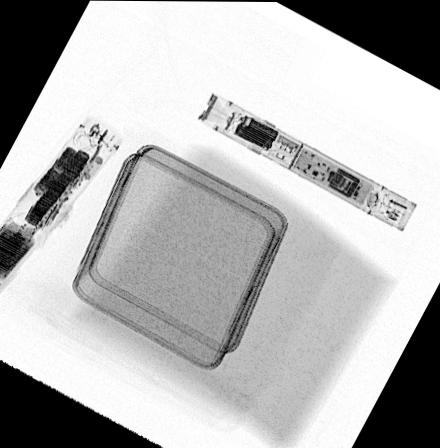Baton: (196, 91, 420, 233), (0, 110, 125, 294)
